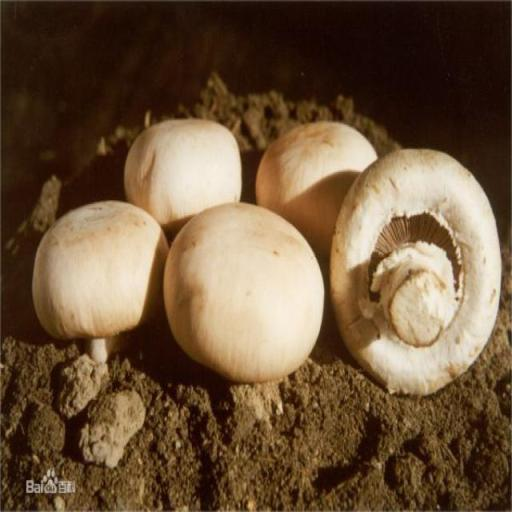mushroom: (332, 146, 501, 392), (167, 204, 324, 382), (28, 199, 170, 358), (260, 116, 393, 237), (120, 114, 244, 213)
